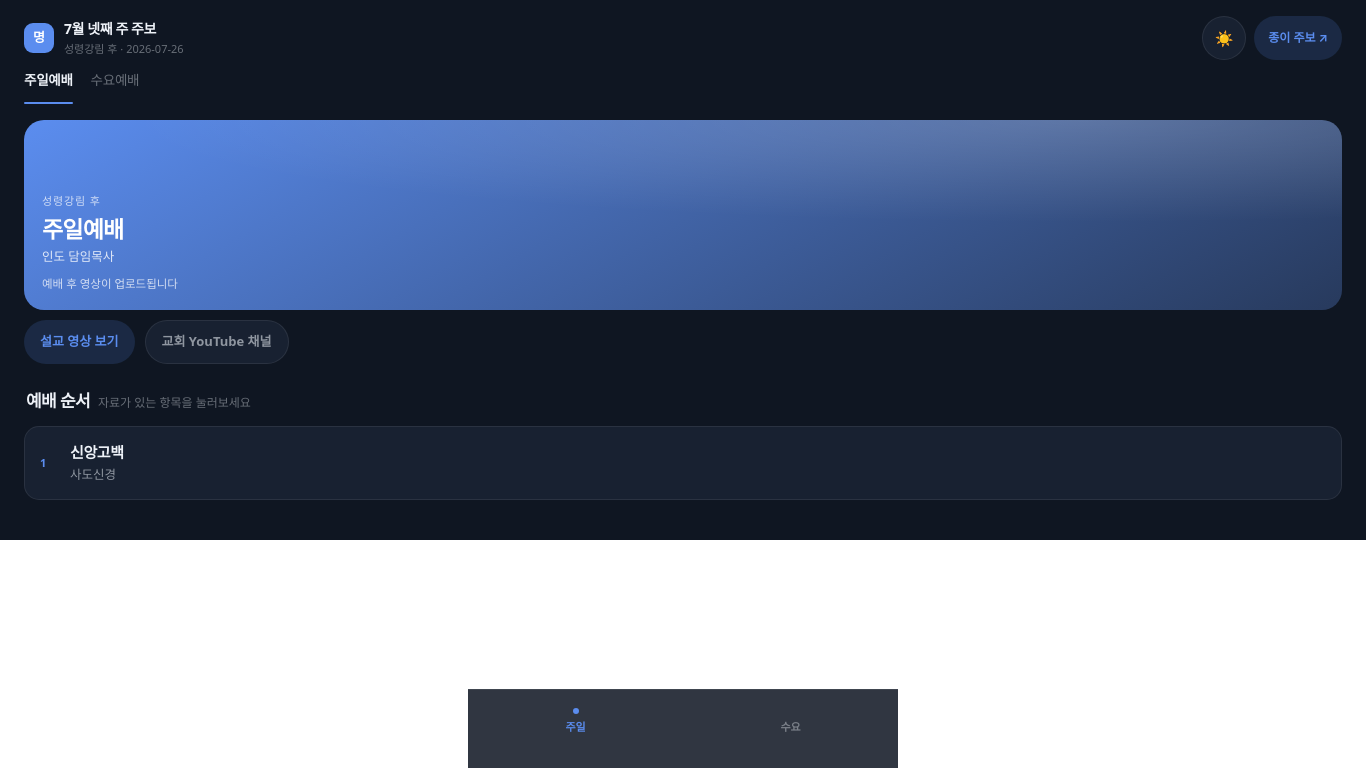
BulletinThemeShell › uses stored dark mode and writes msvch_theme when toggled
The width and height of the screenshot is (1366, 768).
Click the button named "밝은 화면으로 전환". click: (1224, 38)
box: [1202, 16, 1246, 60]
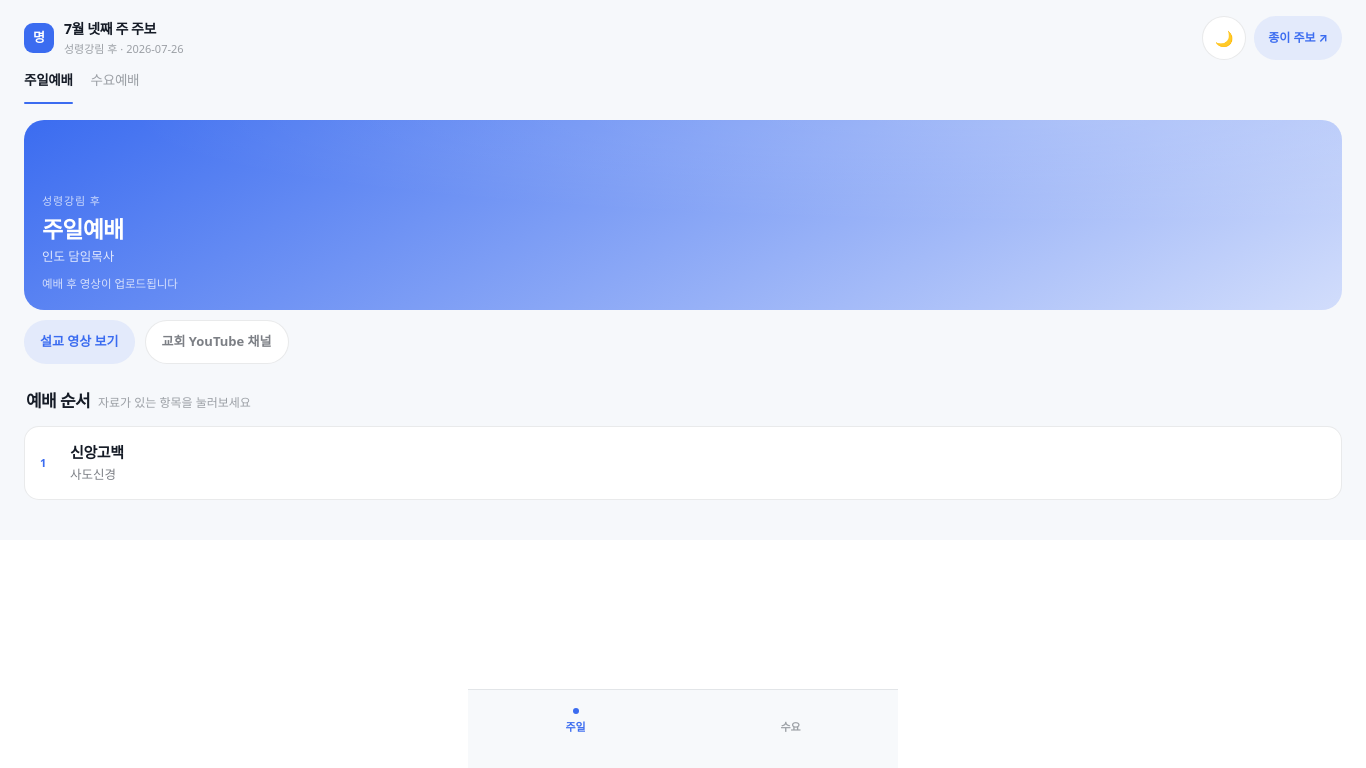
Now the button named "어두운 화면으로 전환" is shown, box [1202, 16, 1246, 60]
